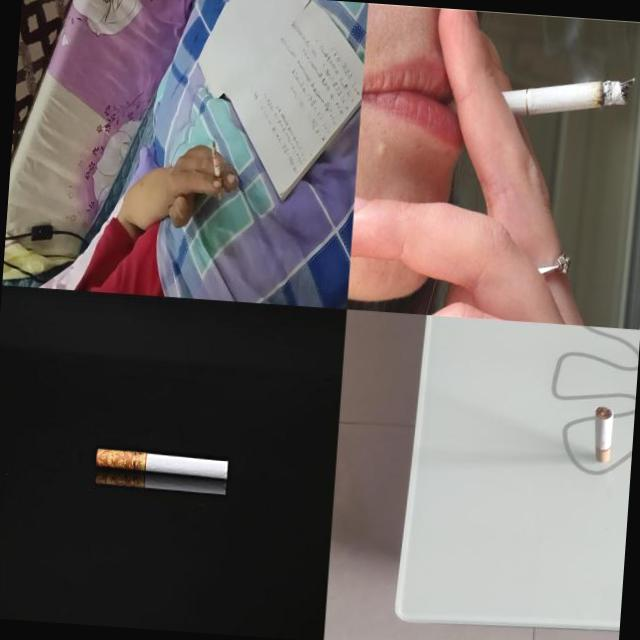cigarette: (446, 65, 636, 132), (91, 447, 229, 480), (94, 470, 228, 496), (590, 406, 612, 464), (207, 140, 227, 202)
